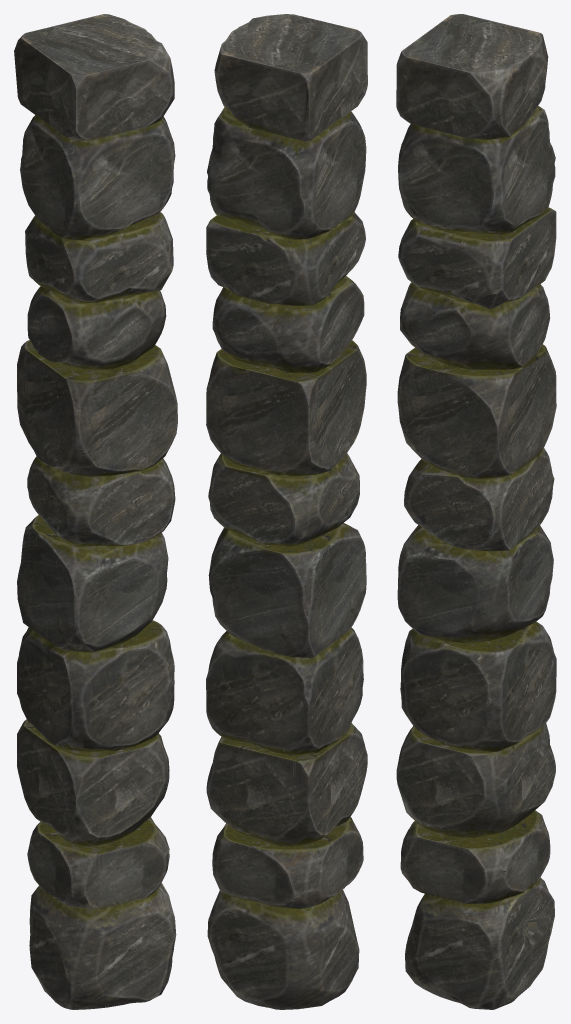
Rendered from SM_Pillar_C.fbx.
The picture shows the model from 3 angles, left to right: view 1: azimuth 30°, elevation 25°; view 2: azimuth 150°, elevation 25°; view 3: azimuth 330°, elevation 25°; orthographic projection.
Visible parts, largest first — view 1: SM_Pillar_C_LOD0; view 2: SM_Pillar_C_LOD0; view 3: SM_Pillar_C_LOD0.
Boxes of the visible parts, x1=… form: SM_Pillar_C_LOD0: x1=14, y1=14, x2=177, y2=1009; SM_Pillar_C_LOD0: x1=206, y1=14, x2=367, y2=1009; SM_Pillar_C_LOD0: x1=396, y1=14, x2=556, y2=1009.
Bounding box in the file's own units: 106 × 108 × 924.
